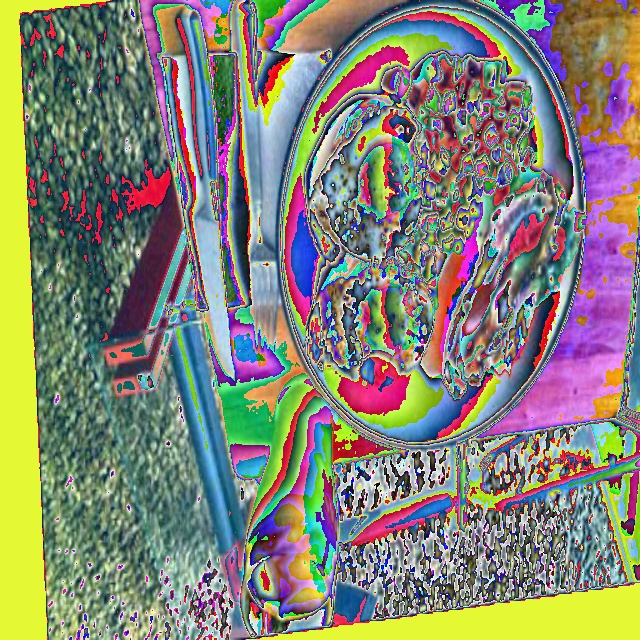background: (280, 54, 584, 400), (97, 246, 338, 624)
